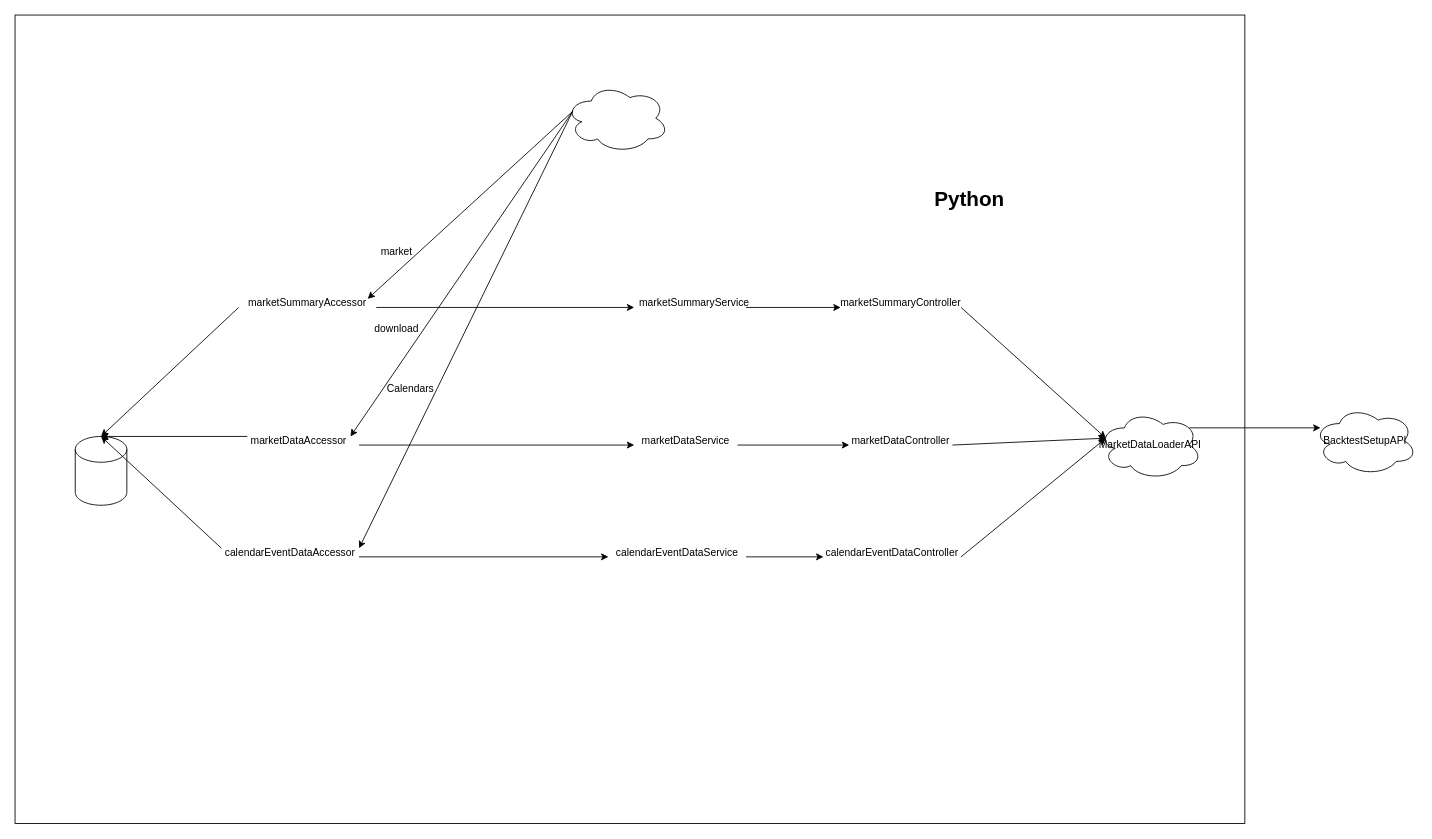
Some shapes in this 1432 by 839 pixel diagram are drawn without their labels. Each missing label, with the box of its shape:
MarketData DB: (74, 436, 127, 505)
yfinannce API: (565, 83, 669, 153)
